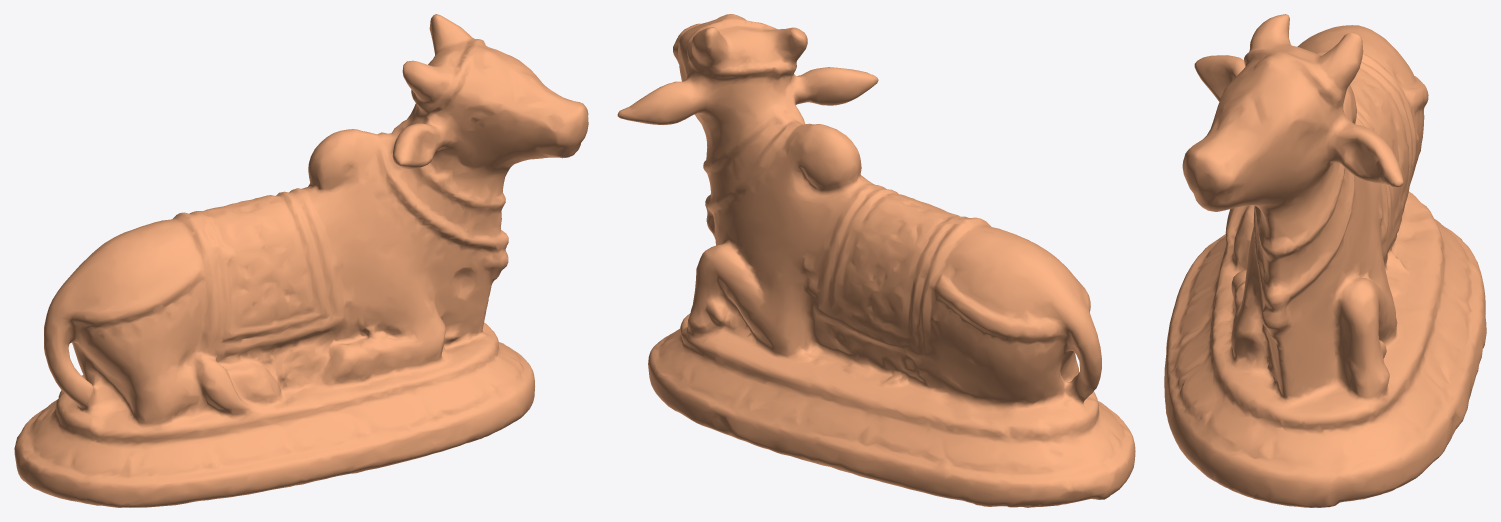
The model's file is Saivam_Nandhi_12.glb.
3 renders of one model, left to right at view 1: azimuth 30°, elevation 25°; view 2: azimuth 150°, elevation 25°; view 3: azimuth 270°, elevation 25°, orthographic. The views are drawn at different scales.
Parts seen in each view (by area): view 1: Saivam_Nandhi_12; view 2: Saivam_Nandhi_12; view 3: Saivam_Nandhi_12.
Boxes of the visible parts, x1,y1,x2,y2 form: Saivam_Nandhi_12: (14, 14, 588, 507); Saivam_Nandhi_12: (617, 14, 1135, 507); Saivam_Nandhi_12: (1164, 14, 1486, 507).
Size of the model in its own units: 0.3417 by 0.2411 by 0.1595.
